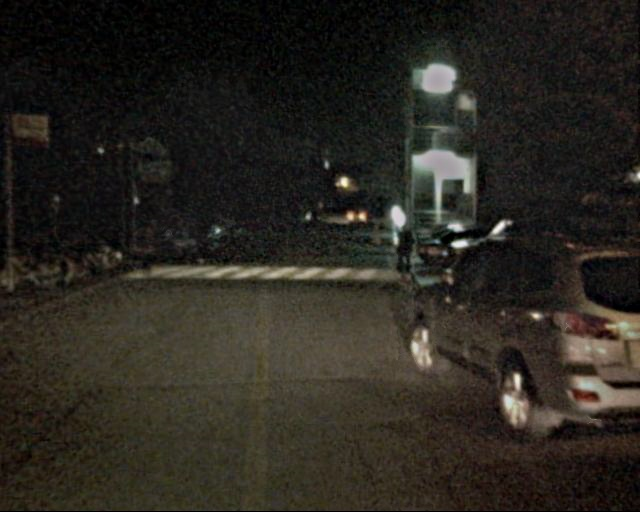person: (389, 223, 415, 287), (132, 219, 156, 278), (186, 216, 204, 260)
